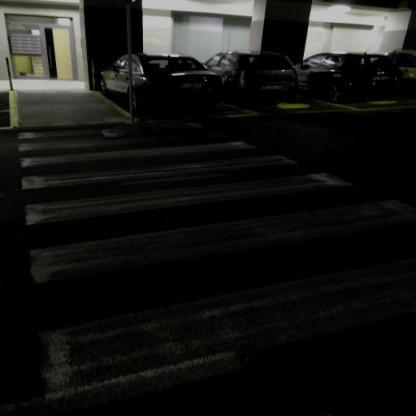crosswalk: (10, 152, 371, 230)
